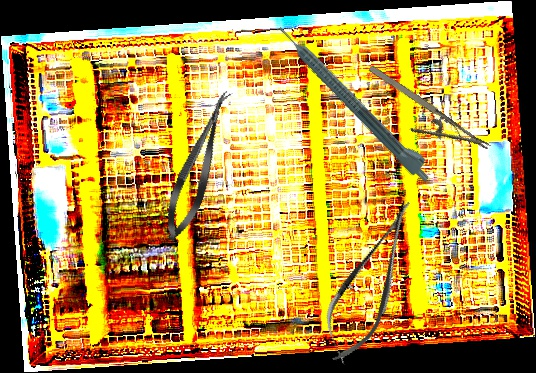Handpiece: (273, 16, 439, 186)
Micro Scissor: (307, 190, 435, 372), (156, 85, 241, 246)
Needle Holder: (354, 61, 491, 174)
